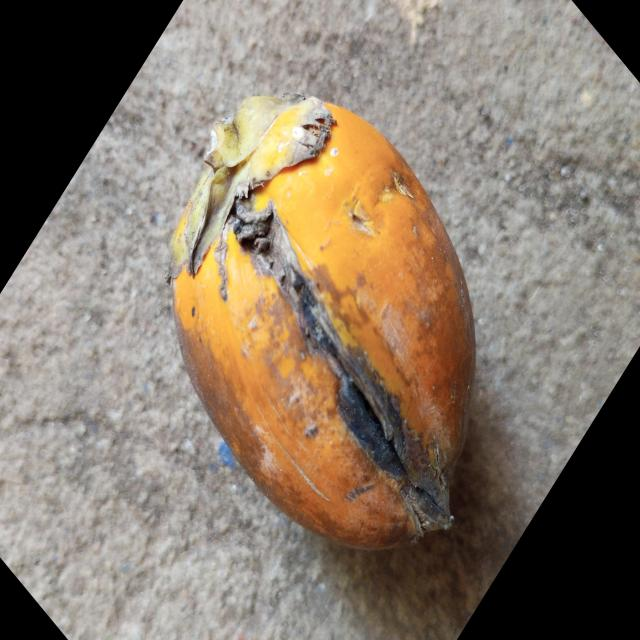damaged: (168, 95, 477, 553)
